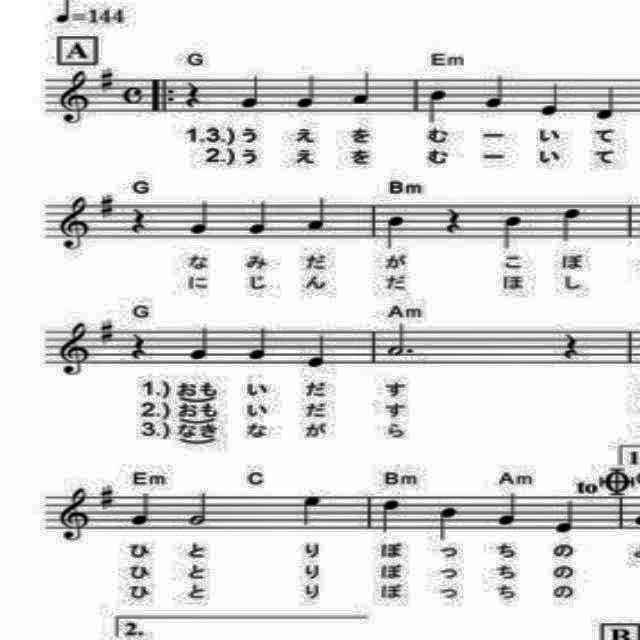Diez: (98, 482, 118, 514), (99, 190, 119, 220), (99, 65, 118, 95), (98, 320, 116, 344)
Half-dot: (382, 318, 418, 360)
Half-note: (184, 488, 212, 532)
Quarter-note: (535, 72, 565, 120), (590, 77, 618, 123), (554, 492, 582, 538), (348, 66, 377, 110), (373, 497, 403, 538), (499, 212, 528, 254), (188, 321, 216, 364), (479, 72, 509, 112), (298, 492, 326, 534), (128, 490, 156, 530), (188, 192, 212, 238), (239, 68, 263, 112), (296, 68, 320, 112), (247, 196, 271, 240), (305, 330, 331, 370), (435, 503, 461, 542), (560, 206, 584, 248), (426, 85, 449, 127), (382, 214, 406, 254), (246, 324, 270, 364), (306, 194, 330, 233), (496, 490, 520, 526)
Quarter-rest: (182, 77, 206, 113), (560, 330, 582, 368), (127, 207, 151, 237), (442, 203, 462, 237), (130, 328, 148, 364)
Treble-clef: (54, 68, 94, 132), (56, 319, 92, 381), (56, 192, 92, 252), (58, 484, 94, 544)
